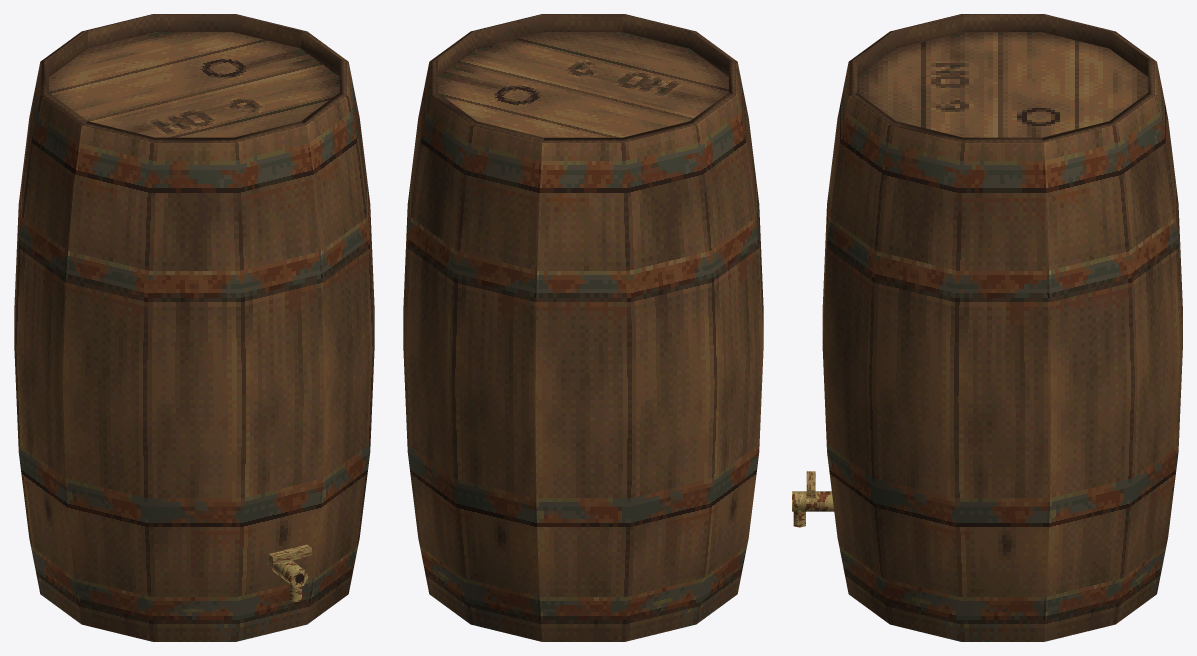
The model's file is barrel_wood.glb.
The picture shows the model from 3 angles, left to right: view 1: azimuth 30°, elevation 25°; view 2: azimuth 150°, elevation 25°; view 3: azimuth 270°, elevation 25°; orthographic projection.
Visible parts, largest first — view 1: barrel_wood; view 2: barrel_wood; view 3: barrel_wood.
Boxes of the visible parts, <box> form: barrel_wood: <box>14,14,374,641</box>; barrel_wood: <box>403,14,763,641</box>; barrel_wood: <box>792,14,1182,641</box>.
Bounding box in the file's own units: 0.5641 × 0.865 × 0.6121.
Materials: 1 (1 with a texture image).
